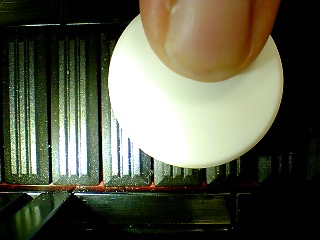BLANK: (107, 6, 284, 169)
